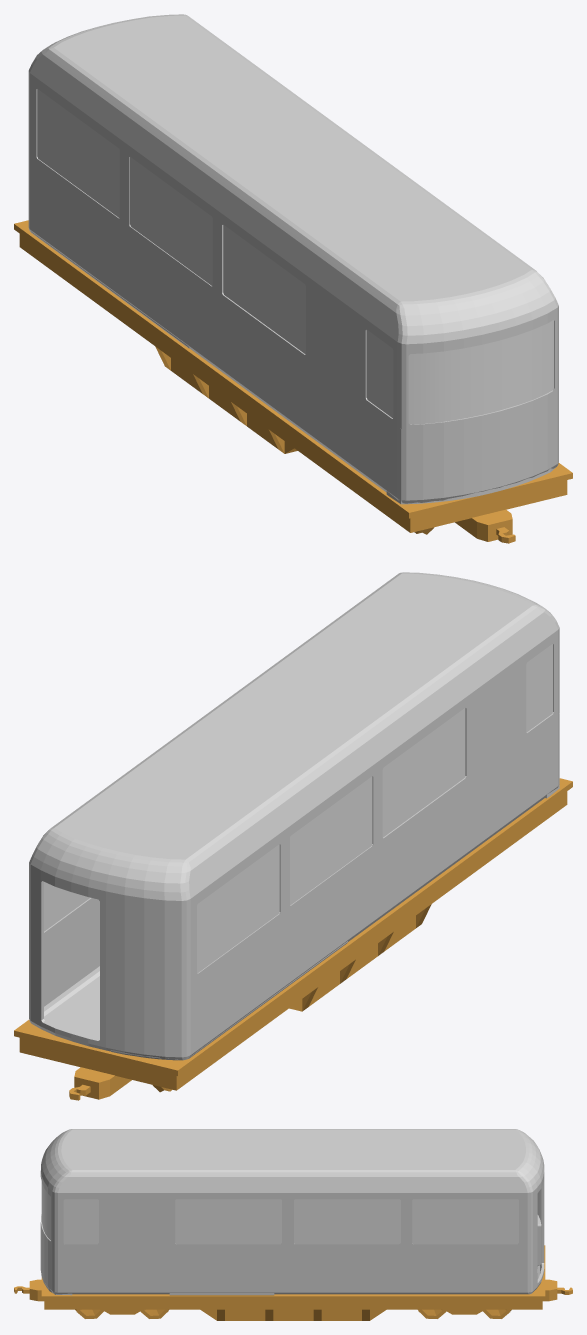
Rendered from TrainTest.fbx.
3 renders of one model, top to bottom at view 1: azimuth 30°, elevation 25°; view 2: azimuth 150°, elevation 25°; view 3: azimuth 270°, elevation 25°, orthographic. The views are drawn at different scales.
Parts seen in each view (by area): view 1: Cube.052, train-wagon-cargo-base, Plane.496, Plane.493, Plane.491, Plane.492, Plane.505, Cube.050; view 2: Cube.052, train-wagon-cargo-base, Plane.493, Plane.491, Plane.492, Plane.505, Plane.489; view 3: Cube.052, train-wagon-cargo-base, Plane.488, Plane.489, Plane.490, Plane.494, Plane.496, Cube.051.
Boxes of the visible parts, x1,y1,x2,y2 form: Cube.052: (28, 14, 558, 503); train-wagon-cargo-base: (14, 220, 572, 543); Plane.496: (408, 320, 553, 424); Plane.493: (223, 225, 305, 354); Plane.491: (130, 157, 212, 285); Plane.492: (37, 89, 119, 217); Plane.505: (366, 330, 393, 417); Cube.050: (386, 428, 557, 504); Cube.052: (29, 572, 559, 1060); train-wagon-cargo-base: (14, 778, 572, 1100); Plane.493: (382, 708, 465, 837); Plane.491: (290, 776, 372, 905); Plane.492: (197, 844, 279, 973); Plane.505: (526, 644, 552, 732); Plane.489: (44, 882, 89, 931); Cube.052: (40, 1129, 544, 1294); train-wagon-cargo-base: (14, 1245, 572, 1320); Plane.488: (294, 1199, 400, 1244); Plane.489: (412, 1199, 518, 1244); Plane.490: (175, 1199, 281, 1244); Plane.494: (63, 1199, 98, 1244); Plane.496: (41, 1182, 50, 1240); Cube.051: (169, 1293, 274, 1295).
Size of the model in its own units: 903 by 1309 by 4182.
